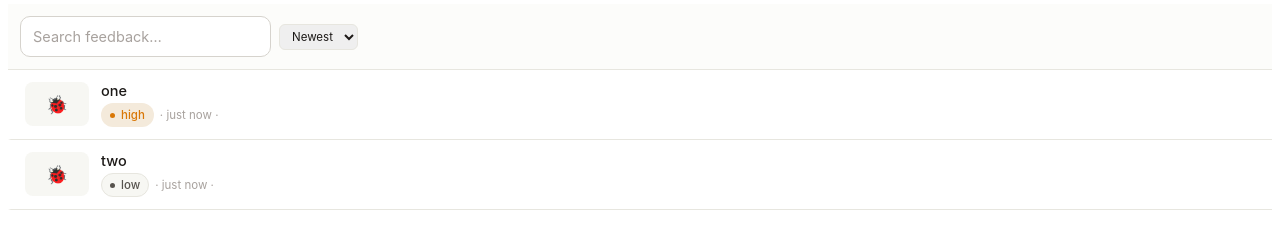
Scenario: TriageList › shows filtered-empty when filters exclude everything
In the field with placeholder "Search feedback…": (146, 36) [33,17,258,56], type "noresults"
Wait 250 ms
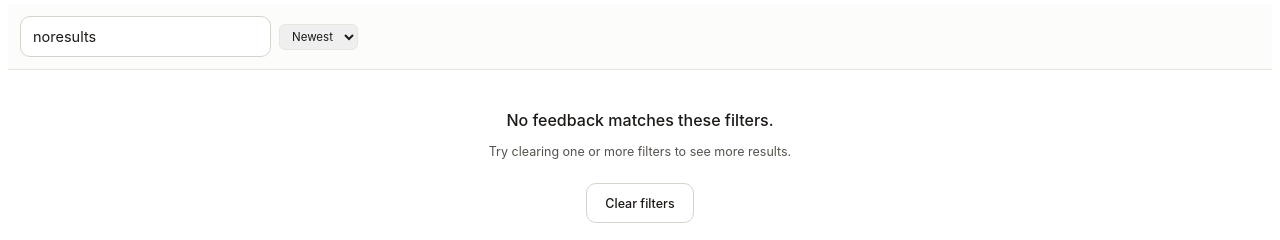
Result: the text "No feedback matches these filters." is shown at [506,110,774,130]
